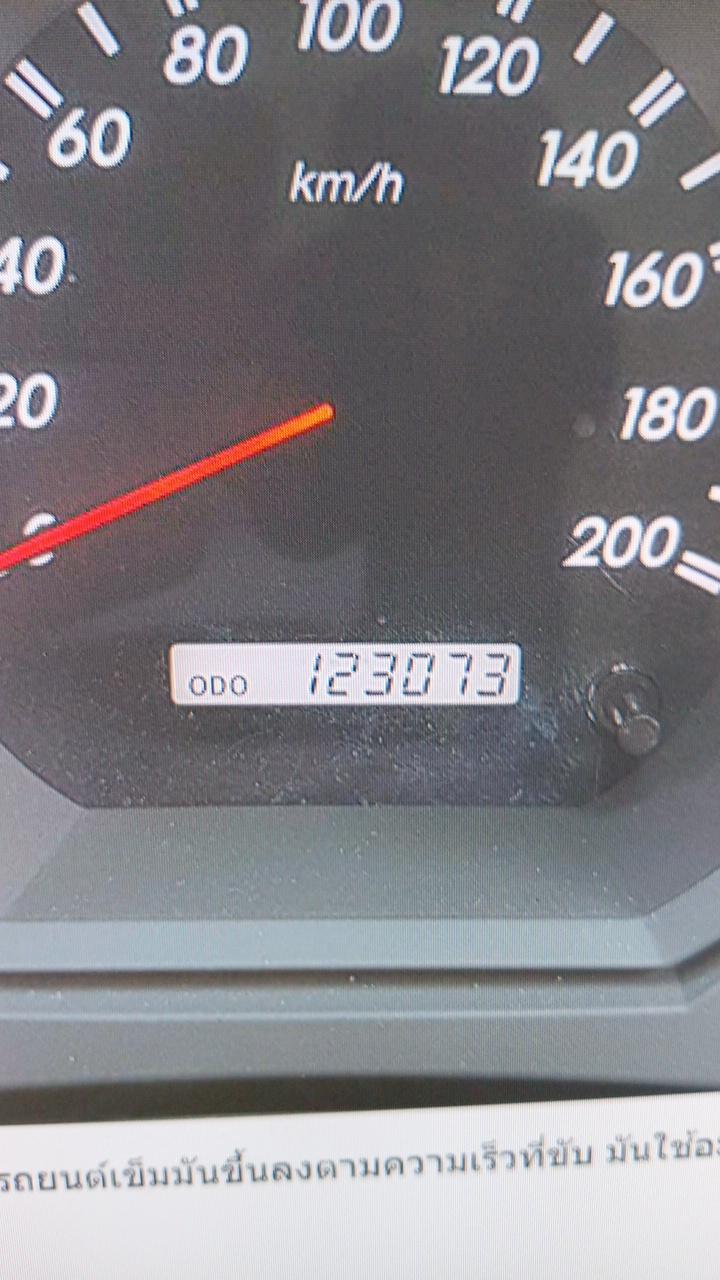0: (402, 650, 435, 697)
1: (305, 652, 324, 697)
2: (326, 651, 359, 698)
3: (475, 650, 512, 699), (363, 650, 399, 698)
7: (446, 651, 475, 697)
odometer: (170, 642, 524, 708)
